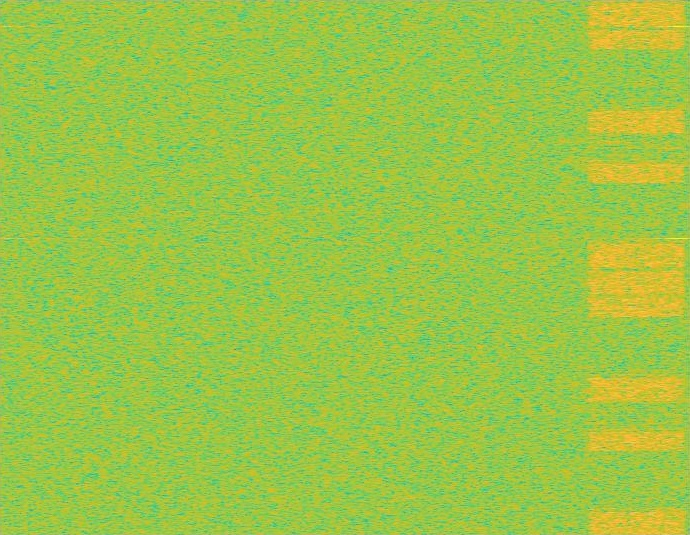LTE: (584, 0, 688, 534)
Radar: (671, 0, 685, 534)
